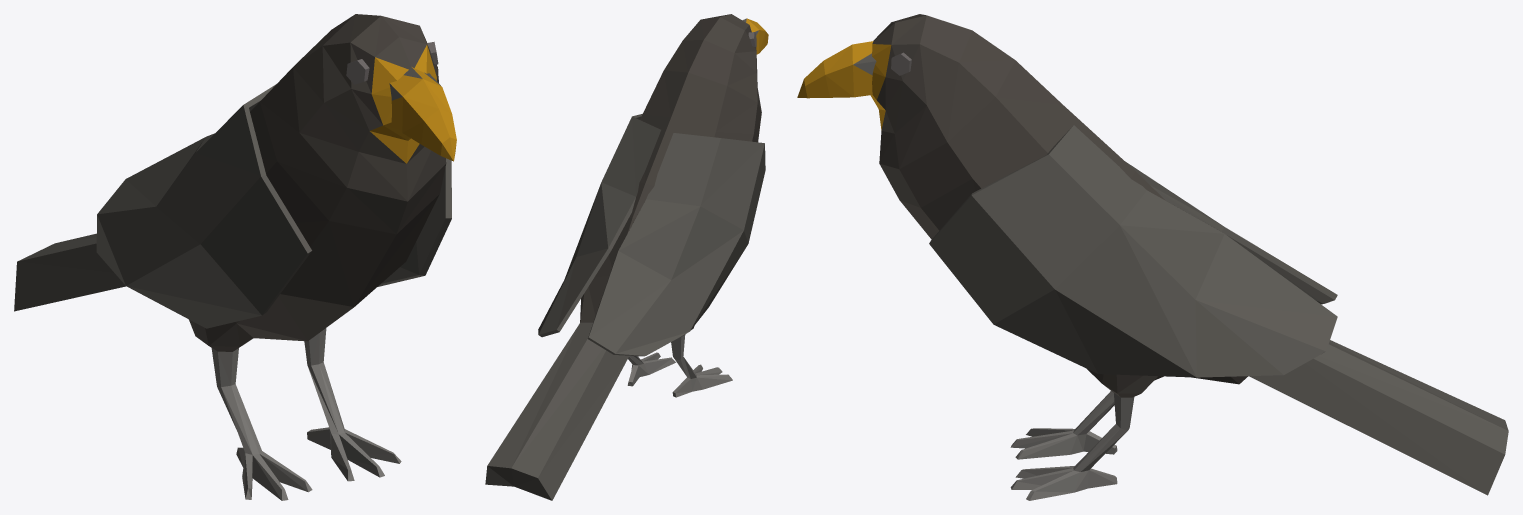
File: v_blackbird.glb
3 views of the same model, side by side, from view 1: azimuth 30°, elevation 25°; view 2: azimuth 150°, elevation 25°; view 3: azimuth 270°, elevation 25° (orthographic). The views are drawn at different scales.
Parts seen in each view (by area): view 1: Geo_Raven; view 2: Geo_Raven; view 3: Geo_Raven.
Boxes of the visible parts, x1,y1,x2,y2 form: Geo_Raven: (14, 14, 456, 500); Geo_Raven: (485, 14, 768, 500); Geo_Raven: (797, 14, 1508, 500).
Bounding box in the file's own units: 0.0788 × 0.1774 × 0.25.
